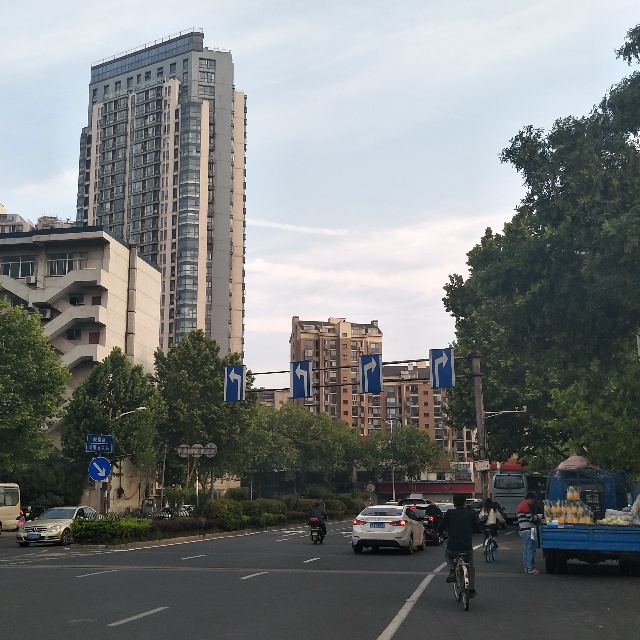left: (288, 359, 313, 395), (226, 366, 245, 401)
right: (360, 355, 384, 393), (432, 348, 451, 388)
